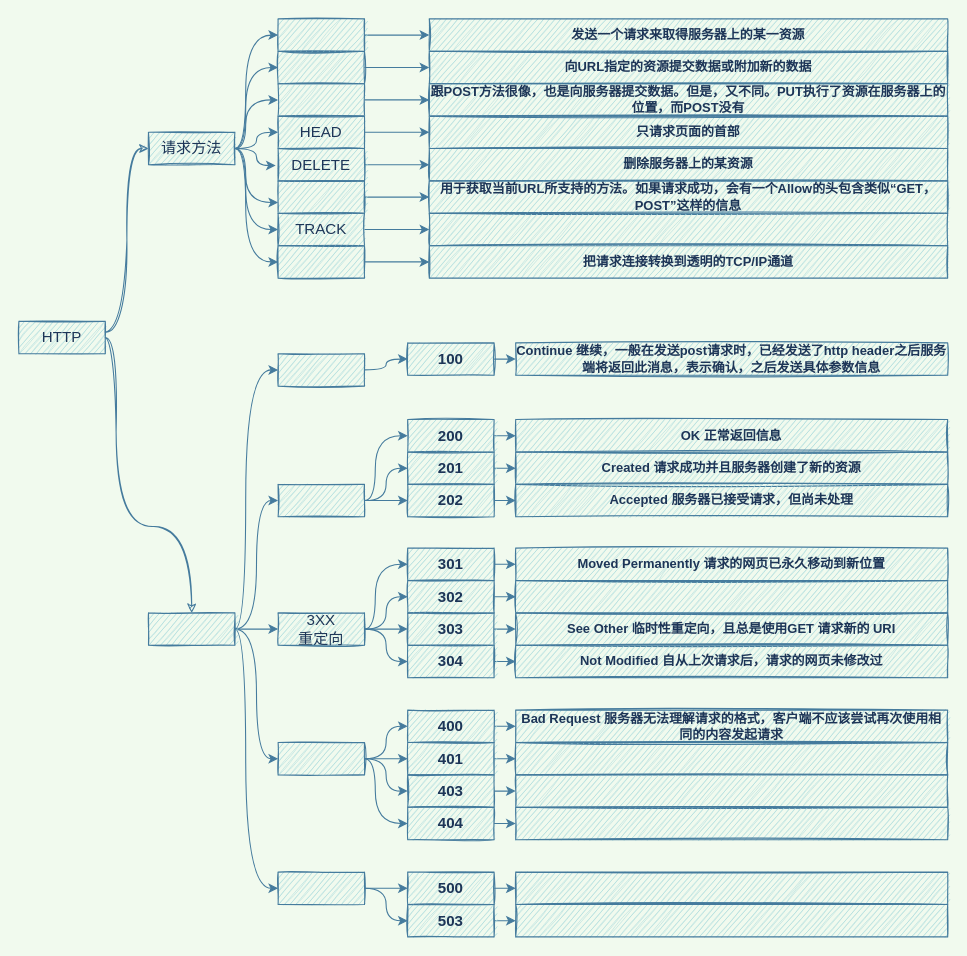
Some shapes in this 967 by 956 pixel diagram are drawn without their labels. The centre of each missing label's shape, as x and y in pixels:
1XX 信息状态码: the point at 320,369
2XX 成功状态码: the point at 320,500
4XX 客户端错误: the point at 320,758
5XX 服务器错误: the point at 320,888
CONNECT: the point at 320,261
Forbidden 禁止访问: the point at 731,790
Found 临时性重定向: the point at 731,596
GET: the point at 320,34
Internal Server Error 最常见的服务器错误: the point at 731,888
Not Found 找不到如何与URI 相匹配的资源: the point at 731,823
OPTIONS: the point at 320,196
POST: the point at 320,67
PUT: the point at 320,99
Service Unavailable 服务器暂时无法处理请求(可能是过载或者维护): the point at 731,920
Unauthorized 请求未授权: the point at 731,758
状态码: the point at 191,628
被用于激发一个远程的，应用层的请求消息回路: the point at 688,229
